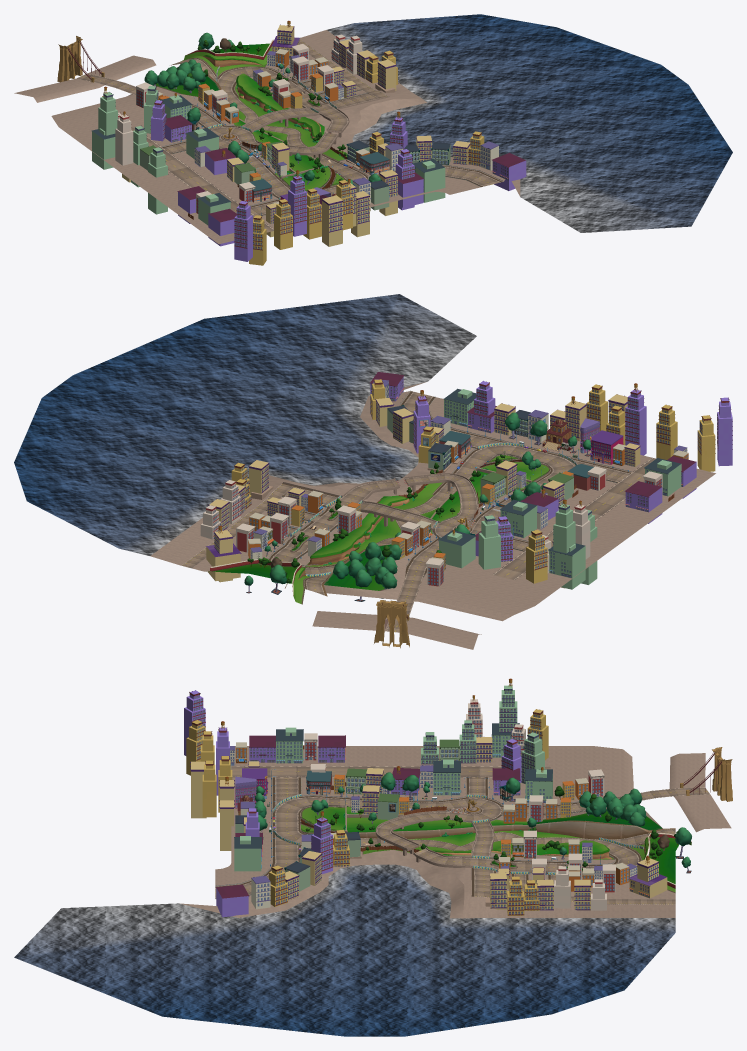
File: city_slicker.glb
The picture shows the model from 3 angles, top to bottom: view 1: azimuth 30°, elevation 25°; view 2: azimuth 150°, elevation 25°; view 3: azimuth 270°, elevation 25°; orthographic projection. The views are drawn at different scales.
Parts seen in each view (by area): view 1: Combined_Mesh__root:_scene__sub12_name_NoisePattern_1_0, Combined_Mesh__root:_scene__sub11_name_t_beton1_0, Combined_Mesh__root:_scene__sub37_name_t_city_asphalt1_0, Combined_Mesh__root:_scene__sub10_name_t_city_asphalt1_0, Combined_Mesh__root:_scene__sub3_name_t_beton1_0, Combined_Mesh__root:_scene__sub2_name_t_grass01_0, Combined_Mesh__root:_scene__t_city_asphalt1_0, Combined_Mesh__root:_scene__sub14_name_t_beton1_0, Combined_Mesh__root:_scene__sub38_name_t_grass01_0, Combined_Mesh__root:_scene__4_sub72_name_t_beton1_0, Combined_Mesh__root:_scene__sub68_name_t_city_buidings1_0, Combined_Mesh__root:_scene__2_sub2_name_t_city_buidings1_0 (+37 smaller); view 2: Combined_Mesh__root:_scene__sub12_name_NoisePattern_1_0, Combined_Mesh__root:_scene__sub11_name_t_beton1_0, Combined_Mesh__root:_scene__sub37_name_t_city_asphalt1_0, Combined_Mesh__root:_scene__sub10_name_t_city_asphalt1_0, Combined_Mesh__root:_scene__sub3_name_t_beton1_0, Combined_Mesh__root:_scene__sub2_name_t_grass01_0, Combined_Mesh__root:_scene__t_city_asphalt1_0, Combined_Mesh__root:_scene__sub14_name_t_beton1_0, Combined_Mesh__root:_scene__4_sub72_name_t_beton1_0, Combined_Mesh__root:_scene__sub16_name_t_grass02_0, Combined_Mesh__root:_scene__sub68_name_t_city_buidings1_0, Combined_Mesh__root:_scene__sub38_name_t_grass01_0 (+27 smaller); view 3: Combined_Mesh__root:_scene__sub12_name_NoisePattern_1_0, Combined_Mesh__root:_scene__sub11_name_t_beton1_0, Combined_Mesh__root:_scene__sub37_name_t_city_asphalt1_0, Combined_Mesh__root:_scene__sub3_name_t_beton1_0, Combined_Mesh__root:_scene__sub14_name_t_beton1_0, Combined_Mesh__root:_scene__sub10_name_t_city_asphalt1_0, Combined_Mesh__root:_scene__t_city_asphalt1_0, Combined_Mesh__root:_scene__sub2_name_t_grass01_0, Combined_Mesh__root:_scene__sub1_name_t_city_concrete_wall01, Combined_Mesh__root:_scene__sub16_name_t_grass02_0, Combined_Mesh__root:_scene__sub38_name_t_grass01_0, Combined_Mesh__root:_scene__4_sub72_name_t_beton1_0 (+27 smaller).
Boxes of the visible parts, x1,y1,x2,y2 form: Combined_Mesh__root:_scene__sub12_name_NoisePattern_1_0: (327,14,732,232); Combined_Mesh__root:_scene__sub11_name_t_beton1_0: (14,30,505,244); Combined_Mesh__root:_scene__sub37_name_t_city_asphalt1_0: (211,67,366,197); Combined_Mesh__root:_scene__sub10_name_t_city_asphalt1_0: (76,39,500,232); Combined_Mesh__root:_scene__sub3_name_t_beton1_0: (146,58,433,228); Combined_Mesh__root:_scene__sub2_name_t_grass01_0: (184,47,344,191); Combined_Mesh__root:_scene__t_city_asphalt1_0: (163,58,367,215); Combined_Mesh__root:_scene__sub14_name_t_beton1_0: (324,98,520,196); Combined_Mesh__root:_scene__sub38_name_t_grass01_0: (213,64,347,177); Combined_Mesh__root:_scene__4_sub72_name_t_beton1_0: (239,96,389,160); Combined_Mesh__root:_scene__sub68_name_t_city_buidings1_0: (57,36,104,82); Combined_Mesh__root:_scene__2_sub2_name_t_city_buidings1_0: (234,200,252,261); Combined_Mesh__root:_scene__sub12_name_NoisePattern_1_0: (14,294,476,555); Combined_Mesh__root:_scene__sub11_name_t_beton1_0: (150,391,715,649); Combined_Mesh__root:_scene__sub37_name_t_city_asphalt1_0: (271,445,574,574); Combined_Mesh__root:_scene__sub10_name_t_city_asphalt1_0: (181,391,655,632); Combined_Mesh__root:_scene__sub3_name_t_beton1_0: (205,423,651,571); Combined_Mesh__root:_scene__sub2_name_t_grass01_0: (206,455,550,601); Combined_Mesh__root:_scene__t_city_asphalt1_0: (288,429,629,584); Combined_Mesh__root:_scene__sub14_name_t_beton1_0: (269,382,434,496); Combined_Mesh__root:_scene__4_sub72_name_t_beton1_0: (283,473,478,530); Combined_Mesh__root:_scene__sub16_name_t_grass02_0: (212,544,391,590); Combined_Mesh__root:_scene__sub68_name_t_city_buidings1_0: (374,600,409,648); Combined_Mesh__root:_scene__sub38_name_t_grass01_0: (304,472,530,576); Combined_Mesh__root:_scene__sub12_name_NoisePattern_1_0: (14,864,675,1036); Combined_Mesh__root:_scene__sub11_name_t_beton1_0: (215,746,731,918); Combined_Mesh__root:_scene__sub37_name_t_city_asphalt1_0: (275,797,639,875); Combined_Mesh__root:_scene__sub3_name_t_beton1_0: (231,777,674,893); Combined_Mesh__root:_scene__sub14_name_t_beton1_0: (179,849,464,918); Combined_Mesh__root:_scene__sub10_name_t_city_asphalt1_0: (215,766,710,904); Combined_Mesh__root:_scene__t_city_asphalt1_0: (274,777,665,889); Combined_Mesh__root:_scene__sub2_name_t_grass01_0: (301,807,691,893); Combined_Mesh__root:_scene__sub1_name_t_city_concrete_wall01: (304,821,649,839); Combined_Mesh__root:_scene__sub16_name_t_grass02_0: (527,810,678,884); Combined_Mesh__root:_scene__sub38_name_t_grass01_0: (346,806,644,860); Combined_Mesh__root:_scene__4_sub72_name_t_beton1_0: (375,810,494,896).
Size of what is drawn, in the model's own units: 718 by 134 by 762.
Materials: 21 (21 with a texture image).
